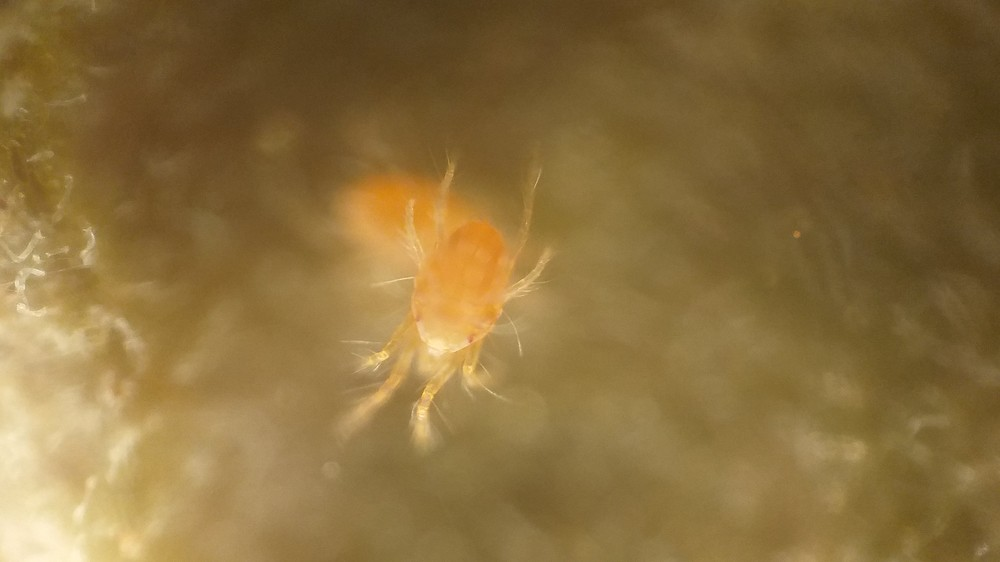Aracnido Rojo: (346, 150, 572, 469)
